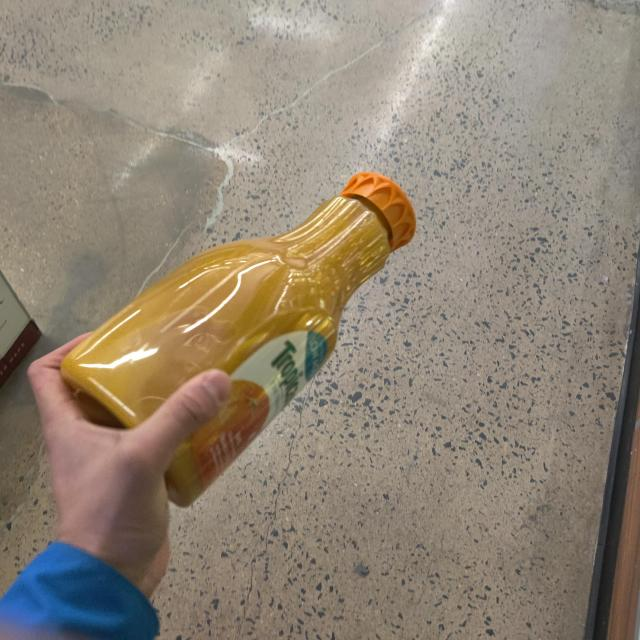Juice: (54, 173, 417, 501)
